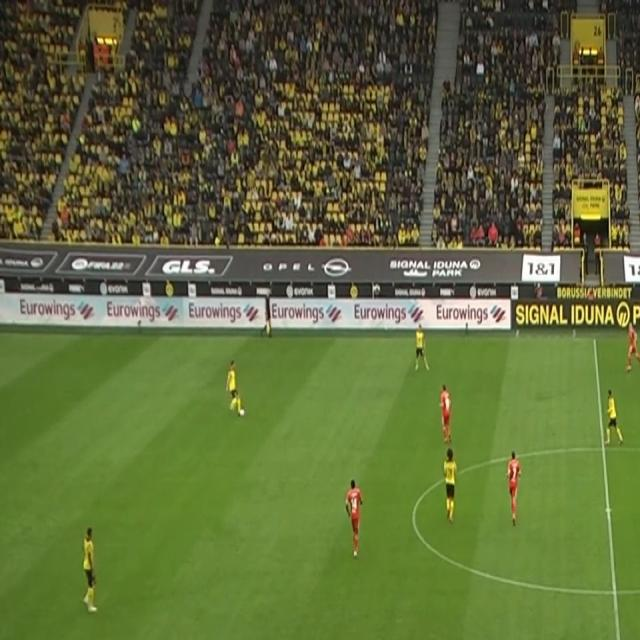ball: (239, 406, 246, 418)
